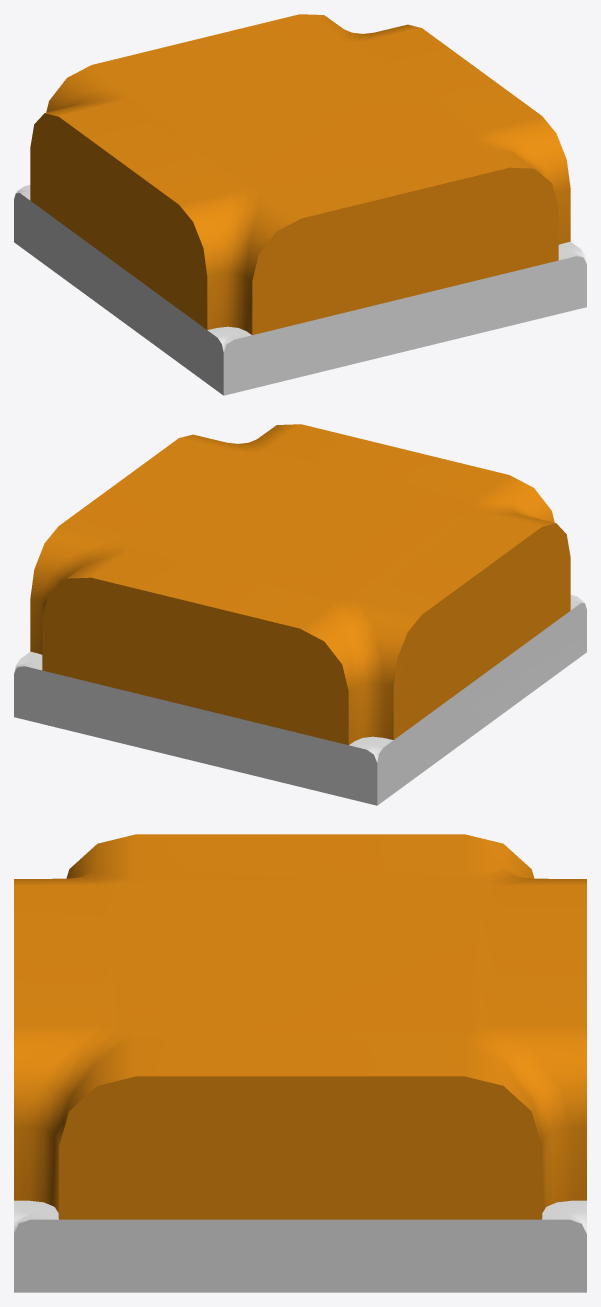
File: Wall_4_Sided.fbx
3 renders of one model, top to bottom at view 1: azimuth 30°, elevation 25°; view 2: azimuth 150°, elevation 25°; view 3: azimuth 270°, elevation 25°, orthographic. The views are drawn at different scales.
Parts seen in each view (by area): view 1: Wall_4_Sided; view 2: Wall_4_Sided; view 3: Wall_4_Sided.
Part boxes in pixels (x1=…): Wall_4_Sided: x1=14, y1=14, x2=586, y2=395; Wall_4_Sided: x1=14, y1=424, x2=586, y2=805; Wall_4_Sided: x1=14, y1=834, x2=586, y2=1292.
Size of the model in its own units: 70.82 by 29.5 by 70.82.
